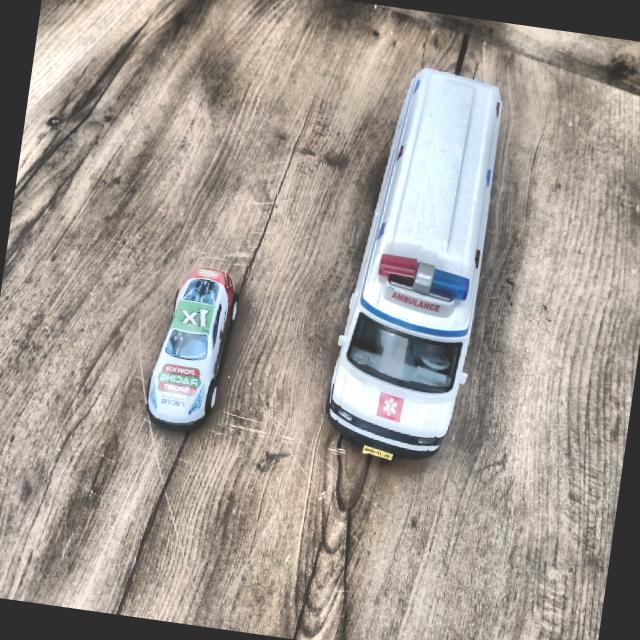Ambulance: (308, 59, 512, 488)
Car: (138, 258, 244, 445)
